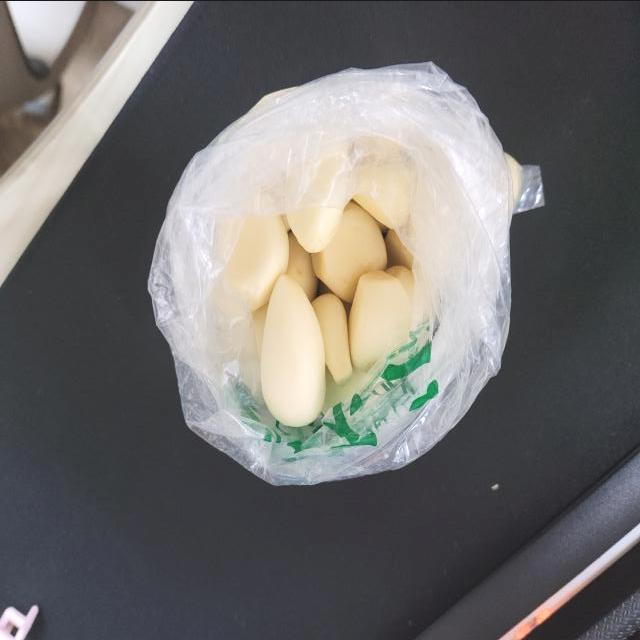garlic: (216, 198, 414, 426)
